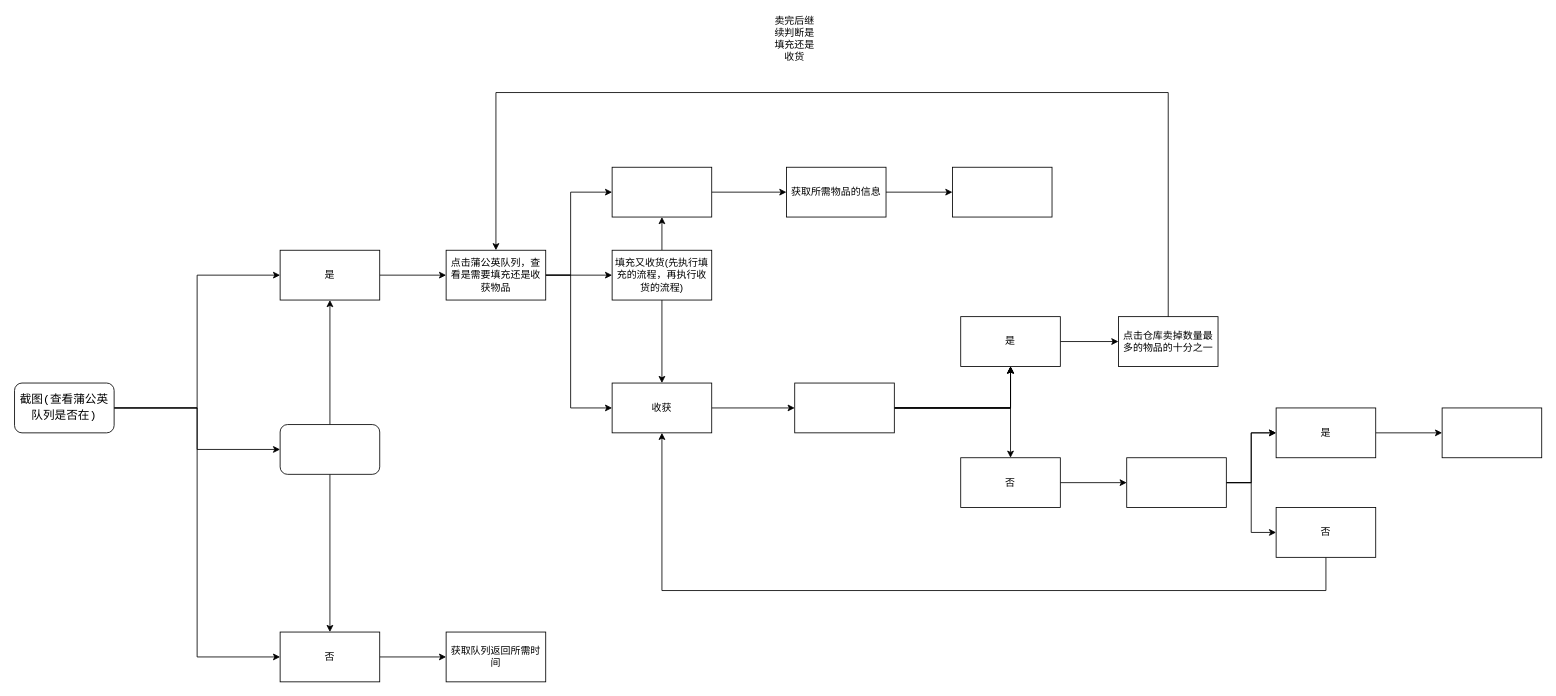
Some shapes in this 1556 by 696 pixel diagram are drawn without their labels. The centre of each missing label's shape, as x and y in pixels:
"出发了，但没完全出发" belongs at (329,449).
"可以直接填充就直接填充，不可以存储需要填充的物品信息" belongs at (1002,191).
"填充" belongs at (661,191).
"存储返回所需时间" belongs at (1491,432).
"是否弹出仓库已满提示" belongs at (844,407).
"队列是否已经出发" belongs at (1176,482).
